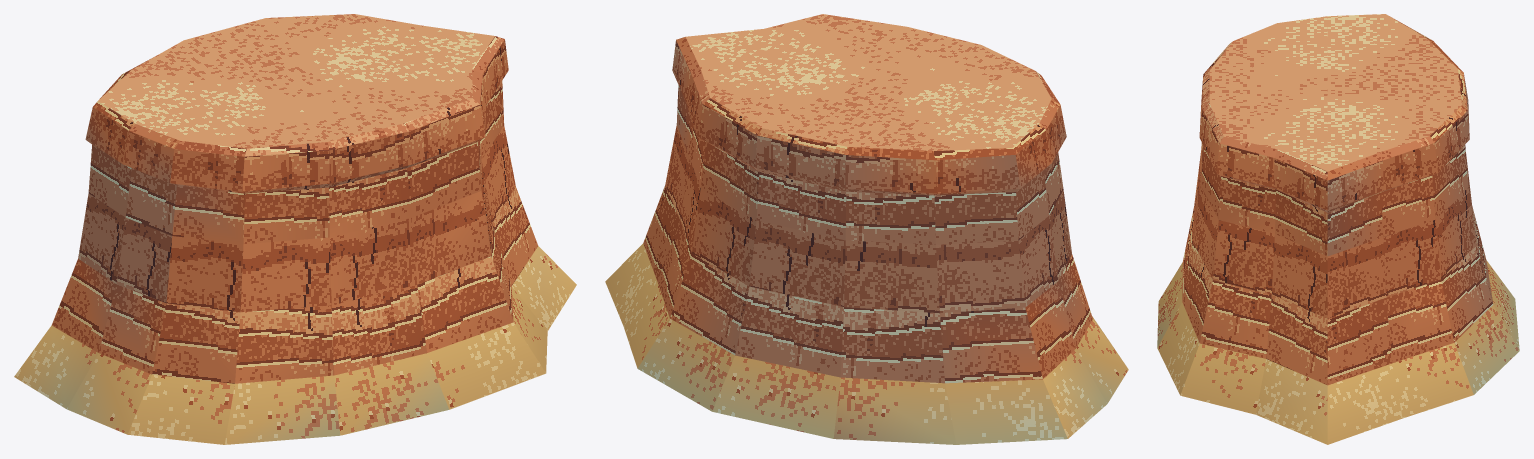
Rendered from wland.mesa__small.glb.
3 renders of one model, left to right at view 1: azimuth 30°, elevation 25°; view 2: azimuth 150°, elevation 25°; view 3: azimuth 270°, elevation 25°, orthographic. The views are drawn at different scales.
Parts seen in each view (by area): view 1: kit_mesa; view 2: kit_mesa; view 3: kit_mesa.
Part boxes in pixels (box(x1,y1,x2,y2)): kit_mesa: box(14, 14, 576, 444); kit_mesa: box(605, 14, 1128, 444); kit_mesa: box(1157, 14, 1519, 444).
Bounding box in the file's own units: 14.08 × 7 × 9.66.
4 materials, 4 textured.
